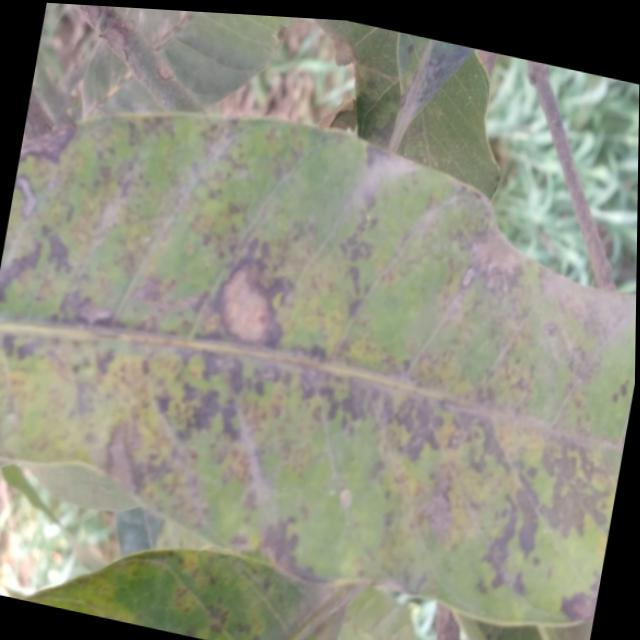Anthracnose: (380, 361, 527, 496), (158, 351, 305, 485), (0, 215, 91, 389)
Bacterial Cancer: (212, 242, 297, 358)
